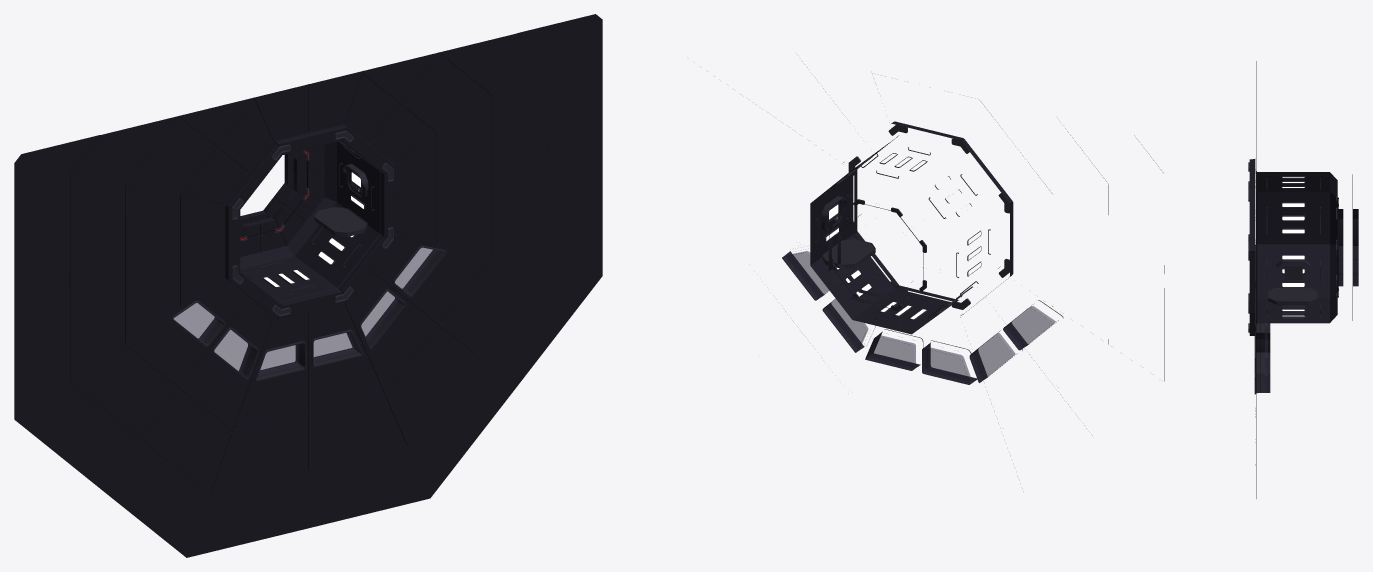
The model's file is 1st_stage.glb.
The picture shows the model from 3 angles, left to right: view 1: azimuth 30°, elevation 25°; view 2: azimuth 150°, elevation 25°; view 3: azimuth 270°, elevation 25°; orthographic projection. The views are drawn at different scales.
Visible parts, largest first — view 1: 1st_stage, windows; view 2: 1st_stage, windows; view 3: 1st_stage, windows.
Boxes of the visible parts, box(x1,y1,x2,y2) form: 1st_stage: box(14, 14, 602, 557); windows: box(174, 247, 436, 373); 1st_stage: box(782, 61, 1164, 435); windows: box(784, 251, 1055, 383); 1st_stage: box(1248, 61, 1358, 498); windows: box(1264, 323, 1267, 392).
Bounding box in the file's own units: 27.98 × 20.19 × 5.38.
Materials: 2 (1 with a texture image).
